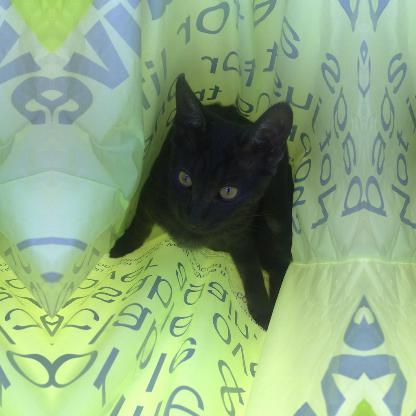Cat: (108, 71, 292, 331)
